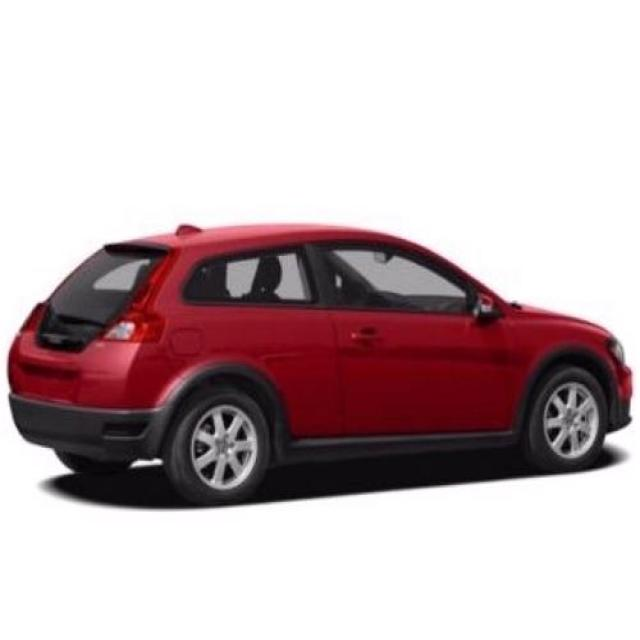Car: (11, 211, 640, 492)
